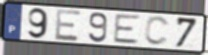7: (174, 16, 200, 49)
9: (27, 7, 51, 40), (88, 12, 109, 43)
C: (143, 15, 171, 48)
E: (54, 8, 83, 43), (112, 14, 143, 45)
